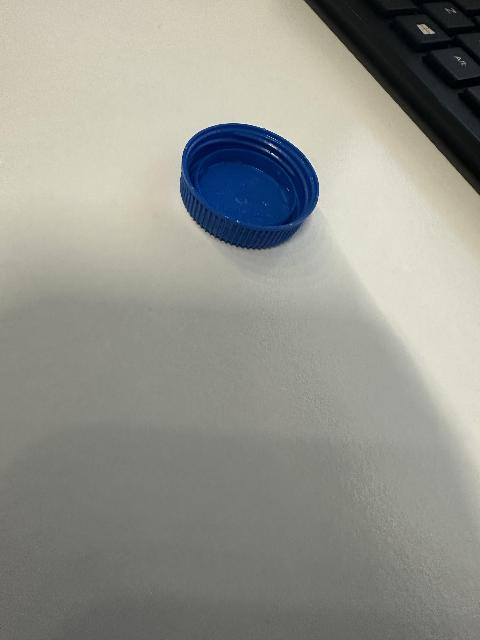Plastik: (181, 122, 321, 244)
